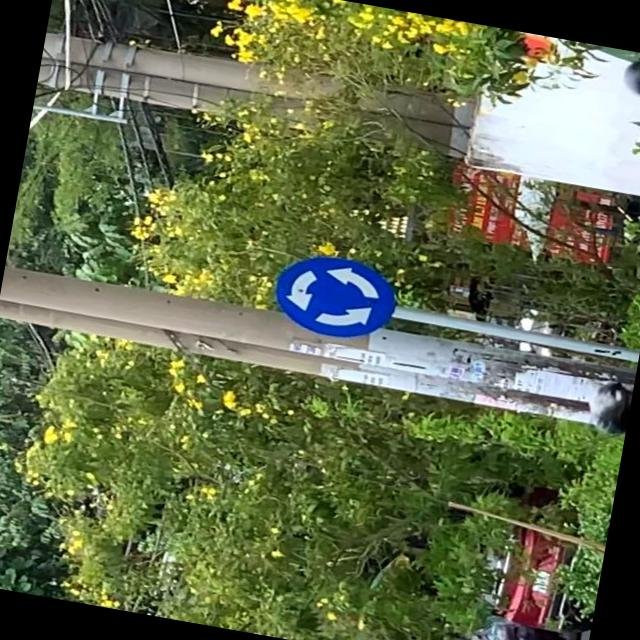R-303: (272, 250, 401, 344)
